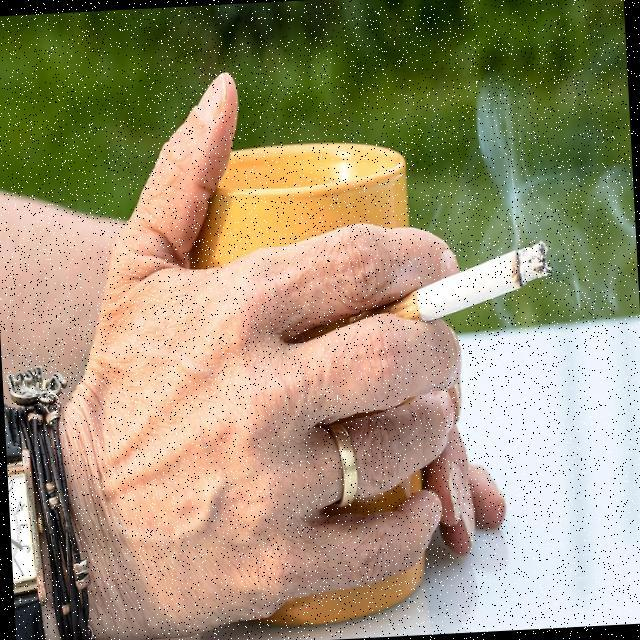cigarette: (398, 226, 568, 335)
